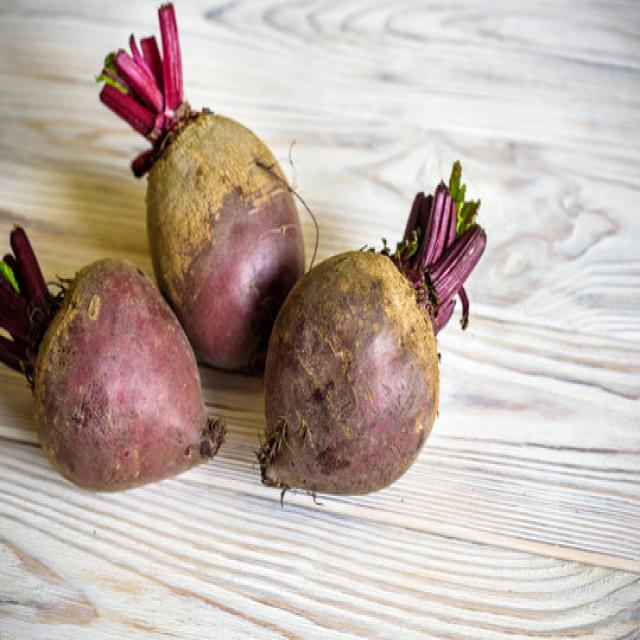Beetroot: (258, 158, 487, 515), (95, 0, 314, 373), (0, 222, 227, 492)
